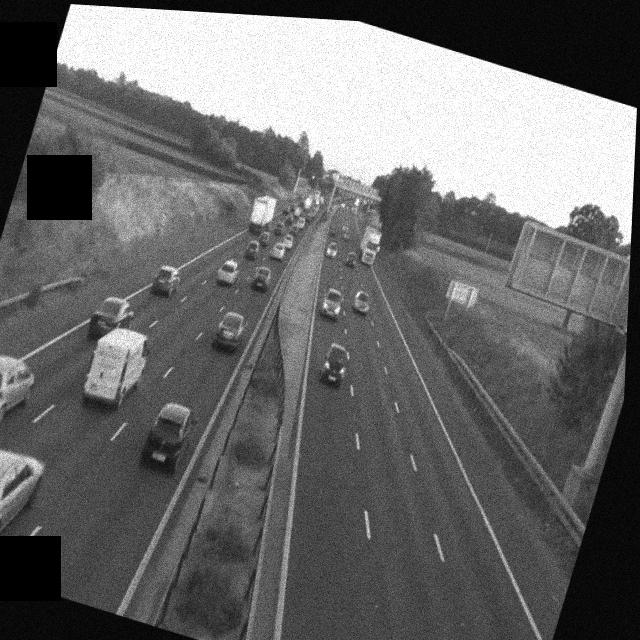car: (79, 318, 153, 414), (0, 434, 48, 569), (138, 398, 199, 475), (0, 346, 38, 431), (83, 289, 136, 349), (210, 307, 248, 353), (316, 342, 351, 389), (149, 261, 183, 299), (318, 286, 346, 322), (214, 256, 241, 288), (250, 264, 273, 292), (350, 287, 373, 314), (243, 237, 262, 261), (270, 238, 289, 261), (324, 240, 340, 260), (270, 222, 285, 242), (345, 248, 360, 267), (287, 223, 301, 240)
truck: (246, 190, 280, 238), (354, 222, 383, 265)
